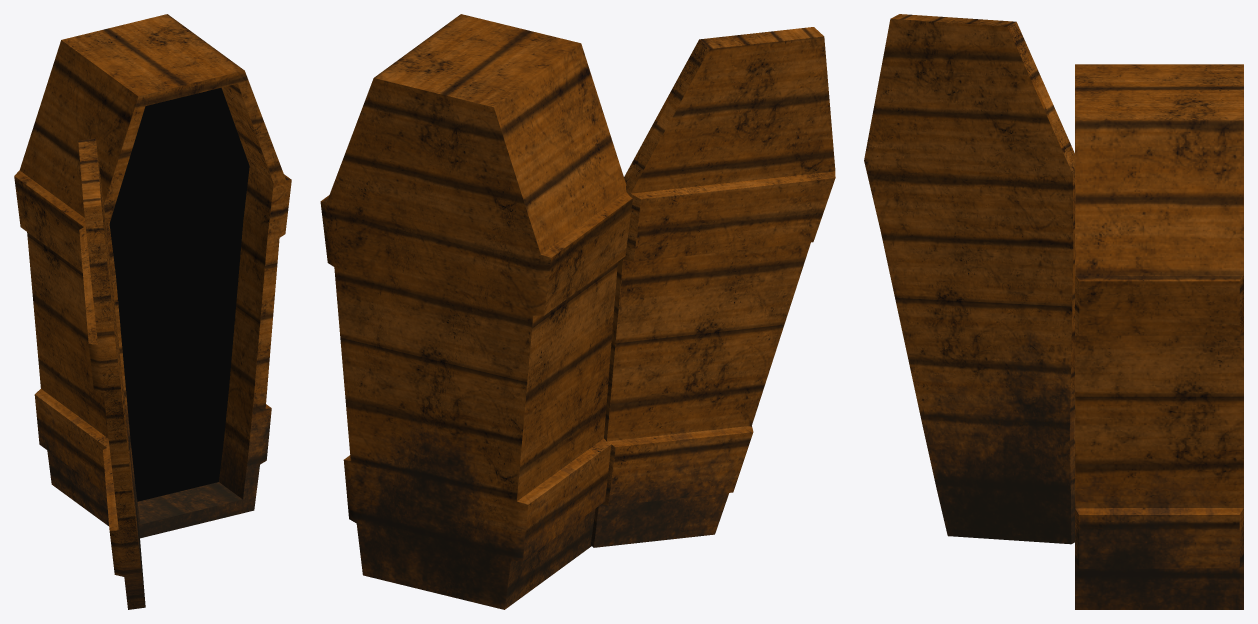
The model's file is Coffin.fbx.
3 renders of one model, left to right at view 1: azimuth 30°, elevation 25°; view 2: azimuth 150°, elevation 25°; view 3: azimuth 270°, elevation 25°, orthographic. The views are drawn at different scales.
Visible parts, largest first — view 1: pCube1, pCube2; view 2: pCube1, pCube2; view 3: pCube1, pCube2.
Part boxes in pixels (x1,y1,x2,y2): pCube1: [14, 14, 291, 538]; pCube2: [78, 138, 145, 609]; pCube1: [320, 14, 632, 609]; pCube2: [590, 27, 835, 547]; pCube1: [1075, 64, 1243, 609]; pCube2: [864, 14, 1074, 544].
Bounding box in the file's own units: 0.2318 × 0.3469 × 0.2383.
Materials: 1 (1 with a texture image).
